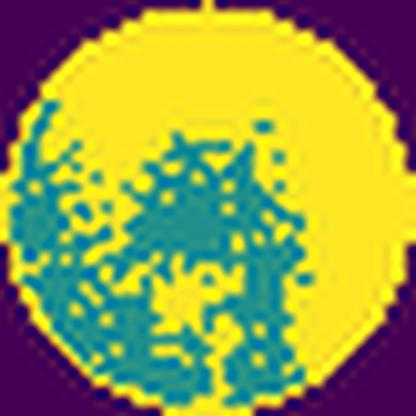Edge-Loc: (39, 0, 415, 379)
